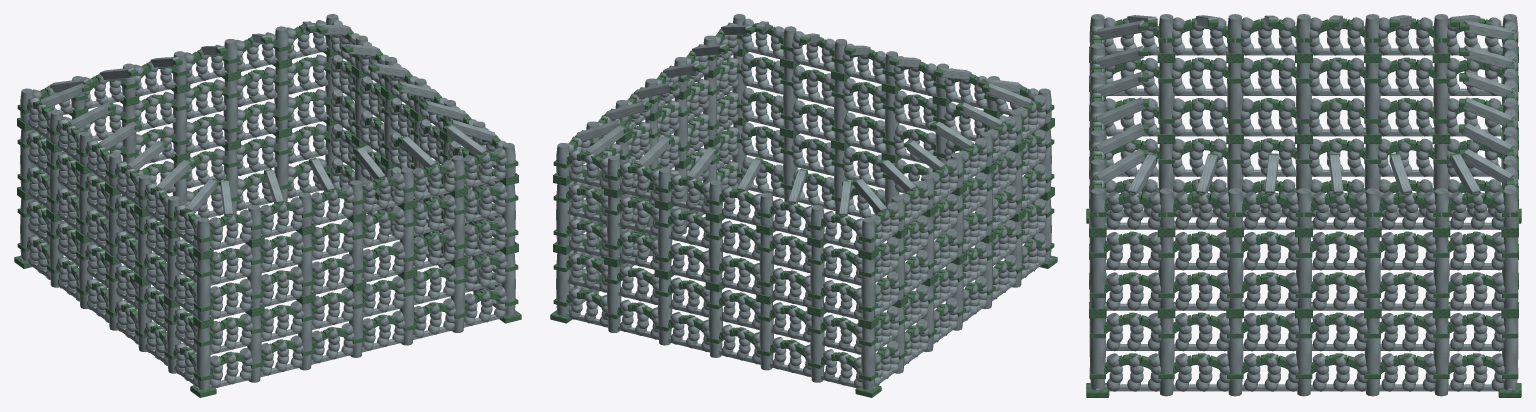
3 views of the same model, side by side, from view 1: azimuth 30°, elevation 25°; view 2: azimuth 150°, elevation 25°; view 3: azimuth 270°, elevation 25° (orthographic). The views are drawn at different scales.
Parts seen in each view (by area): view 1: Tier 1 side 0 post 0, Tier 0 side 0 post 0, Tier 1 side 2 post 1, Tier 1 side 2 post 2, Tier 1 side 2 post 3, Tier 0 side 2 post 1, Tier 0 side 0 post 2, Tier 0 side 0 post 1, Tier 0 side 0 post 3, Tier 0 side 0 post 4, Tier 0 side 0 post 5, Tier 0 side 1 post 0 (+30 smaller); view 2: Tier 1 side 3 post 0, Tier 0 side 3 post 0, Tier 0 side 2 post 4, Tier 0 side 2 post 5, Tier 0 side 2 post 3, Tier 0 side 2 post 2, Tier 0 side 2 post 1, Tier 0 side 2 post 0, Tier 1 side 2 post 0, Tier 1 side 2 post 4, Tier 1 side 2 post 3, Tier 1 side 2 post 5 (+18 smaller); view 3: Tier 0 side 1 post 2, Tier 0 side 1 post 5, Tier 0 side 1 post 4, Tier 0 side 1 post 1, Tier 1 side 1 post 0, Tier 0 side 1 post 3, Tier 0 side 1 post 0, Tier 1 side 2 post 0, Tier 0 side 2 post 0, Tier 1 side 3 post 2, Tier 1 side 3 post 4, Tier 1 side 3 post 5 (+42 smaller).
Part boxes in pixels (left/top/right/bottom): Tier 1 side 0 post 0: left=196, top=258, right=210, bottom=320; Tier 0 side 0 post 0: left=196, top=327, right=210, bottom=389; Tier 1 side 2 post 1: left=274, top=67, right=288, bottom=129; Tier 1 side 2 post 2: left=223, top=80, right=237, bottom=142; Tier 1 side 2 post 3: left=172, top=92, right=186, bottom=154; Tier 0 side 2 post 1: left=274, top=136, right=288, bottom=201; Tier 0 side 0 post 2: left=298, top=303, right=312, bottom=370; Tier 0 side 0 post 1: left=247, top=315, right=261, bottom=382; Tier 0 side 0 post 3: left=349, top=290, right=363, bottom=357; Tier 0 side 0 post 4: left=399, top=278, right=414, bottom=345; Tier 0 side 0 post 5: left=450, top=265, right=464, bottom=332; Tier 0 side 1 post 0: left=501, top=253, right=515, bottom=315; Tier 1 side 3 post 0: left=861, top=258, right=875, bottom=320; Tier 0 side 3 post 0: left=861, top=327, right=875, bottom=389; Tier 0 side 2 post 4: left=759, top=302, right=773, bottom=370; Tier 0 side 2 post 5: left=810, top=315, right=824, bottom=382; Tier 0 side 2 post 3: left=708, top=290, right=722, bottom=357; Tier 0 side 2 post 2: left=657, top=278, right=672, bottom=345; Tier 0 side 2 post 1: left=607, top=265, right=621, bottom=332; Tier 0 side 2 post 0: left=556, top=253, right=570, bottom=315; Tier 1 side 2 post 0: left=556, top=184, right=570, bottom=246; Tier 1 side 2 post 4: left=759, top=233, right=773, bottom=296; Tier 1 side 2 post 3: left=708, top=221, right=722, bottom=283; Tier 1 side 2 post 5: left=810, top=246, right=824, bottom=308; Tier 0 side 1 post 2: left=1227, top=318, right=1243, bottom=396; Tier 0 side 1 post 5: left=1433, top=318, right=1449, bottom=396; Tier 0 side 1 post 4: left=1364, top=318, right=1380, bottom=396; Tier 0 side 1 post 1: left=1158, top=318, right=1174, bottom=396; Tier 1 side 1 post 0: left=1089, top=237, right=1105, bottom=308; Tier 0 side 1 post 3: left=1296, top=318, right=1311, bottom=396; Tier 0 side 1 post 0: left=1089, top=318, right=1105, bottom=389; Tier 1 side 2 post 0: left=1502, top=237, right=1518, bottom=308; Tier 0 side 2 post 0: left=1502, top=318, right=1518, bottom=389; Tier 1 side 3 post 2: left=1364, top=63, right=1380, bottom=134; Tier 1 side 3 post 4: left=1227, top=63, right=1243, bottom=134; Tier 1 side 3 post 5: left=1158, top=63, right=1174, bottom=134.
Size of the model in its own units: 2.85 by 1.59 by 2.85.
2 materials, 2 textured.
